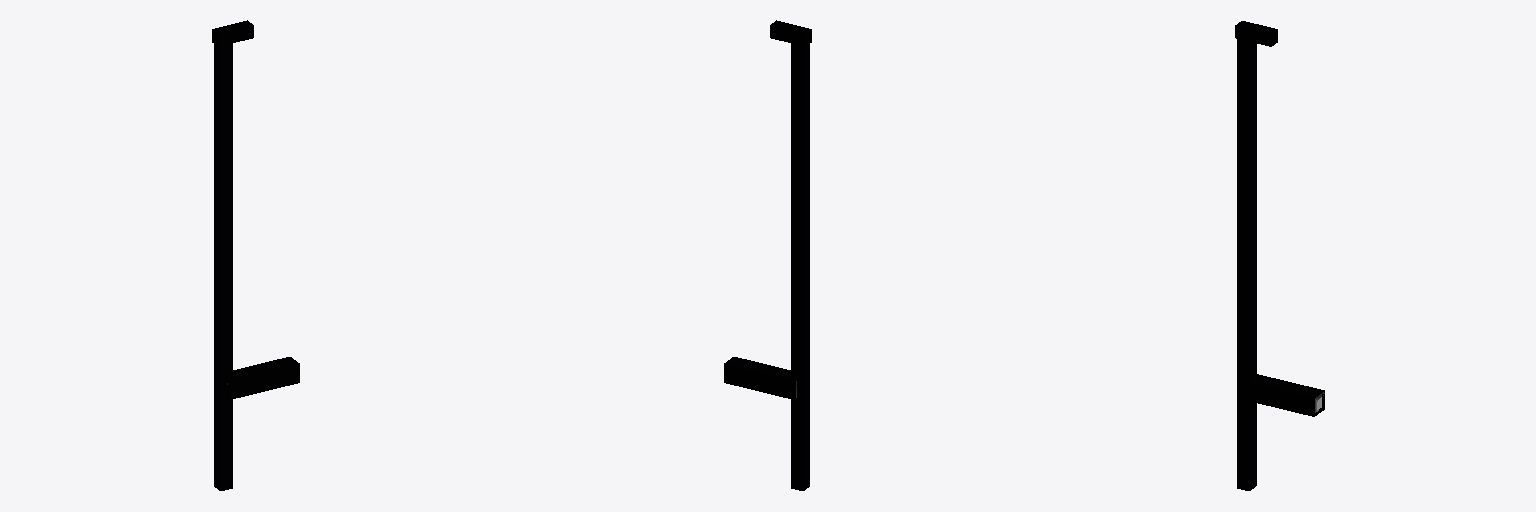
URDF robot description (morpheus):
<?xml version="0.0" ?>
<robot name="morpheus">
  <link name="spine">
    <inertial>
      <origin rpy="0 0 0" xyz="0 0 0"/>
       <mass value=".01"/>
       <inertia ixx="0" ixy="0" ixz="0" iyy="0" iyz="0" izz="0"/>
    </inertial>
    <visual>
      <origin rpy="0 0 0" xyz="0 0 0"/>
      <geometry>
				<box size="0.05 0.05 1.8"/>
      </geometry>
       <material name="black">
        <color rgba="0.01 0.01 0.01 1"/>
      </material>
    </visual>
    <collision>
      <origin rpy="0 0 0" xyz="0 0 0"/>
      <geometry>
	 	   <box size="0.05 0.05 1.8"/>
      </geometry>
    </collision>
  </link>

  <link name="arm1">
    <inertial>
      <origin rpy="0 0 0" xyz="0 0 0"/>
       <mass value=".01"/>
       <inertia ixx="0" ixy="0" ixz="0" iyy="0" iyz="0" izz="0"/>
    </inertial>
    <visual>
      <origin rpy="0 1.57 0" xyz="0.15 0 -0.5"/>
      <geometry>
        <box size="0.075 0.075 0.3"/>
      </geometry>
       <material name="black">
        <color rgba="0.01 0.01 0.01 1"/>
      </material>
    </visual>
    <collision>
      <origin rpy="0 1.57 0" xyz="0.15 0 -0.5"/>
      <geometry>
       <box size="0.05 0.05 0.3"/>
      </geometry>
    </collision>
  </link>

  <joint name="spine_to_arm1" type="prismatic">
    <parent link="spine"/>
    <child link="arm1"/>
    <origin rpy="0 0 0" xyz="0 0 0"/>
    <axis xyz="0 0 1"/>
    <limit lower="0.0" upper="1.3" effort="10" velocity="0.25"/>
  </joint>

  <link name="head">
    <inertial>
      <origin rpy="0 0 0" xyz="0 0 0"/>
       <mass value=".01"/>
       <inertia ixx="0" ixy="0" ixz="0" iyy="0" iyz="0" izz="0"/>
    </inertial>
    <visual>
      <origin rpy="0 1.57 0" xyz="0.04 0 0.9"/>
      <geometry>
        <box size="0.05 0.05 0.15"/>
      </geometry>
       <material name="black">
        <color rgba="0.01 0.01 0.01 1"/>
      </material>
    </visual>
    <collision>
      <origin rpy="0 1.57 0" xyz="0.04 0 0.9"/>
      <geometry>
       <box size="0.05 0.05 0.15"/>
      </geometry>
    </collision>
  </link>

  <joint name="spine_to_head" type="fixed">
    <parent link="spine"/>
    <child link="head"/>
  </joint>


  <link name="arm2">
    <inertial>
      <origin rpy="0 0 0" xyz="0 0 0"/>
       <mass value=".01"/>
       <inertia ixx="0" ixy="0" ixz="0" iyy="0" iyz="0" izz="0"/>
    </inertial>
    <visual>
      <origin rpy="0 1.57 0" xyz="0.15 0 -0.5"/>
      <geometry>
        <box size="0.07 0.07 0.3"/>
      </geometry>
       <material name="grey1">
        <color rgba="0.23 0.22 0.21 1"/>
        </material>
    </visual>
    <collision>
      <origin rpy="0 1.57 0" xyz="0.15 0 -0.5"/>
      <geometry>
       <box size="0.07 0.07 0.3"/>
      </geometry>
    </collision>
  </link>

  <joint name="arm1_to_arm2" type="prismatic">
    <parent link="arm1"/>
    <child link="arm2"/>
    <origin rpy="0 0 0" xyz="0 0 0"/>
    <axis xyz="1 0 0"/>
    <limit lower="0.0" upper="0.25" effort="10" velocity="0.25"/>
  </joint>

  <link name="arm3">
    <inertial>
      <origin rpy="0 0 0" xyz="0 0 0"/>
       <mass value=".01"/>
       <inertia ixx="0" ixy="0" ixz="0" iyy="0" iyz="0" izz="0"/>
    </inertial>
    <visual>
      <origin rpy="0 1.57 0" xyz="0.15 0 -0.5"/>
      <geometry>
        <box size="0.06 0.06 0.3"/>
      </geometry>
       <material name="grey2">
        <color rgba="0.32 0.31 0.31 1"/>
      </material>
    </visual>
    <collision>
      <origin rpy="0 1.57 0" xyz="0.15 0 -0.5"/>
      <geometry>
       <box size="0.06 0.06 0.3"/>
      </geometry>
    </collision>
  </link>

  <joint name="arm2_to_arm3" type="prismatic">
    <parent link="arm2"/>
    <child link="arm3"/>
    <origin rpy="0 0 0" xyz="0 0 0"/>
    <axis xyz="1 0 0"/>
    <limit lower="0.0" upper="0.25" effort="10" velocity="0.25"/>
  </joint>

  <link name="arm4">
    <inertial>
      <origin rpy="0 0 0" xyz="0 0 0"/>
       <mass value=".01"/>
       <inertia ixx="0" ixy="0" ixz="0" iyy="0" iyz="0" izz="0"/>
    </inertial>
    <visual>
      <origin rpy="0 1.57 0" xyz="0.15 0 -0.5"/>
      <geometry>
        <box size="0.05 0.05 0.3"/>
      </geometry>
       <material name="grey3">
        <color rgba="0.49 0.48 0.48 1"/>
      </material>
    </visual>
    <collision>
      <origin rpy="0 1.57 0" xyz="0.15 0 -0.5"/>
      <geometry>
       <box size="0.05 0.05 0.3"/>
      </geometry>
    </collision>
  </link>

  <joint name="arm3_to_arm4" type="prismatic">
    <parent link="arm3"/>
    <child link="arm4"/>
    <origin rpy="0 0 0" xyz="0 0 0"/>
    <axis xyz="1 0 0"/>
    <limit lower="0.0" upper="0.25" effort="10" velocity="0.25"/>
  </joint>

  <link name="arm5">
    <inertial>
      <origin rpy="0 0 0" xyz="0 0 0"/>
       <mass value=".01"/>
       <inertia ixx="0" ixy="0" ixz="0" iyy="0" iyz="0" izz="0"/>
    </inertial>
    <visual>
      <origin rpy="0 1.57 0" xyz="0.15 0 -0.5"/>
      <geometry>
        <box size="0.04 0.04 0.3"/>
      </geometry>
       <material name="grey4">
        <color rgba="0.74 0.73 0.73 1"/>
      </material>
    </visual>
    <collision>
      <origin rpy="0 1.57 0" xyz="0.15 0 -0.5"/>
      <geometry>
       <box size="0.04 0.04 0.3"/>
      </geometry>
    </collision>
  </link>

  <joint name="arm4_to_arm5" type="prismatic">
    <parent link="arm4"/>
    <child link="arm5"/>
    <origin rpy="0 0 0" xyz="0 0 0"/>
    <axis xyz="1 0 0"/>
    <limit lower="0.0" upper="0.25" effort="10" velocity="0.25"/>
  </joint>

</robot>

--- Render facts (derived) ---
The picture shows the robot from 3 angles, left to right: view 1: azimuth 30°, elevation 25°; view 2: azimuth 150°, elevation 25°; view 3: azimuth 330°, elevation 25°; orthographic projection.
Robot: morpheus — 7 links, 6 joints (5 prismatic, 1 fixed); root link spine; default pose: all joints at 0.
Links seen in each view (by area): view 1: spine, arm1, head; view 2: spine, arm1, head; view 3: spine, arm1, head.
Link boxes in pixels (box(x1,y1,x2,y2)): spine: box(214, 37, 232, 490); arm1: box(227, 357, 299, 399); head: box(212, 20, 253, 46); spine: box(791, 37, 809, 490); arm1: box(724, 357, 796, 399); head: box(770, 20, 811, 46); spine: box(1237, 33, 1256, 490); arm1: box(1242, 374, 1324, 416); head: box(1235, 21, 1277, 46).
Size in the robot's own frame: 0.335 by 0.075 by 1.83 metres.
Geometry: primitives only (box / cylinder / sphere), no mesh files.
